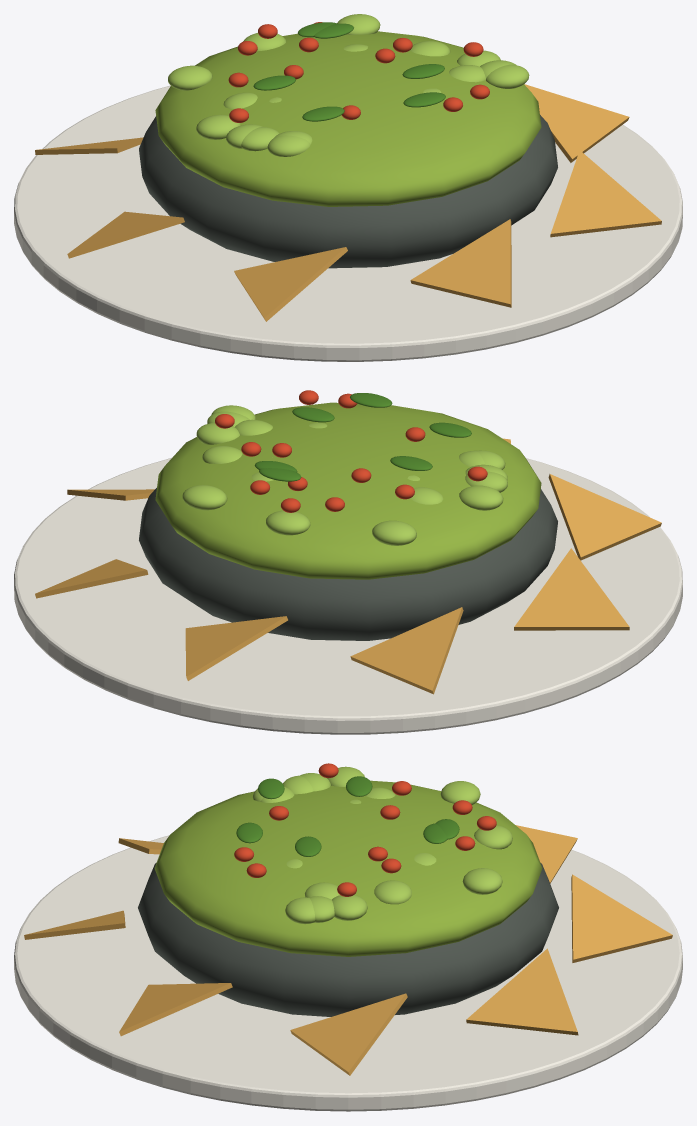
Rendered from flores-guacamole.glb.
3 views of the same model, one above another, from view 1: azimuth 30°, elevation 25°; view 2: azimuth 150°, elevation 25°; view 3: azimuth 270°, elevation 25° (orthographic).
Visible parts, largest first — view 1: Serving plate, Guacamole mound, Stoneware bowl, Tortilla chip.007, Tortilla chip.006, Tortilla chip.005, Tortilla chip, Tortilla chip.004, Tortilla chip.003, Avocado texture.007, Avocado texture.010, Avocado texture.016 (+3 smaller); view 2: Serving plate, Guacamole mound, Stoneware bowl, Tortilla chip.004, Tortilla chip.003, Tortilla chip.005, Tortilla chip.002, Tortilla chip.001, Avocado texture.007, Avocado texture.017, Avocado texture.016, Avocado texture.008 (+3 smaller); view 3: Serving plate, Guacamole mound, Stoneware bowl, Tortilla chip.001, Tortilla chip.002, Tortilla chip, Tortilla chip.007, Tortilla chip.003, Tortilla chip.006, Avocado texture.017, Avocado texture.002, Avocado texture.015 (+3 smaller).
Part boxes in pixels (<box>): Serving plate: <box>14,85,682,361</box>; Guacamole mound: <box>155,31,541,206</box>; Stoneware bowl: <box>139,115,557,268</box>; Tortilla chip.007: <box>550,150,661,237</box>; Tortilla chip.006: <box>410,219,511,307</box>; Tortilla chip.005: <box>234,247,347,321</box>; Tortilla chip: <box>524,84,629,162</box>; Tortilla chip.004: <box>67,211,184,258</box>; Tortilla chip.003: <box>35,137,143,154</box>; Avocado texture.007: <box>168,65,212,90</box>; Avocado texture.010: <box>486,64,529,88</box>; Avocado texture.016: <box>196,114,240,139</box>; Serving plate: <box>14,458,682,734</box>; Guacamole mound: <box>155,402,541,579</box>; Stoneware bowl: <box>139,488,557,640</box>; Tortilla chip.004: <box>514,548,629,630</box>; Tortilla chip.003: <box>350,607,463,694</box>; Tortilla chip.005: <box>548,474,661,560</box>; Tortilla chip.002: <box>185,616,287,680</box>; Tortilla chip.001: <box>35,559,148,598</box>; Avocado texture.007: <box>372,520,416,545</box>; Avocado texture.017: <box>182,485,227,510</box>; Avocado texture.016: <box>459,485,503,510</box>; Avocado texture.008: <box>266,510,310,535</box>; Serving plate: <box>14,835,682,1111</box>; Guacamole mound: <box>154,780,542,956</box>; Stoneware bowl: <box>138,863,558,1016</box>; Tortilla chip.001: <box>466,948,578,1035</box>; Tortilla chip.002: <box>571,874,672,962</box>; Tortilla chip: <box>290,993,407,1075</box>; Tortilla chip.007: <box>119,983,232,1036</box>; Tortilla chip.003: <box>515,825,577,883</box>; Tortilla chip.006: <box>24,910,125,939</box>; Avocado texture.017: <box>462,868,502,894</box>; Avocado texture.002: <box>332,895,367,920</box>; Avocado texture.015: <box>374,880,411,904</box>.
Size of the model in its own units: 0.2 by 0.052 by 0.2.
